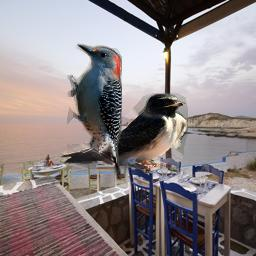Swallow: (58, 93, 188, 170)
Woodpecker: (67, 41, 122, 180)
